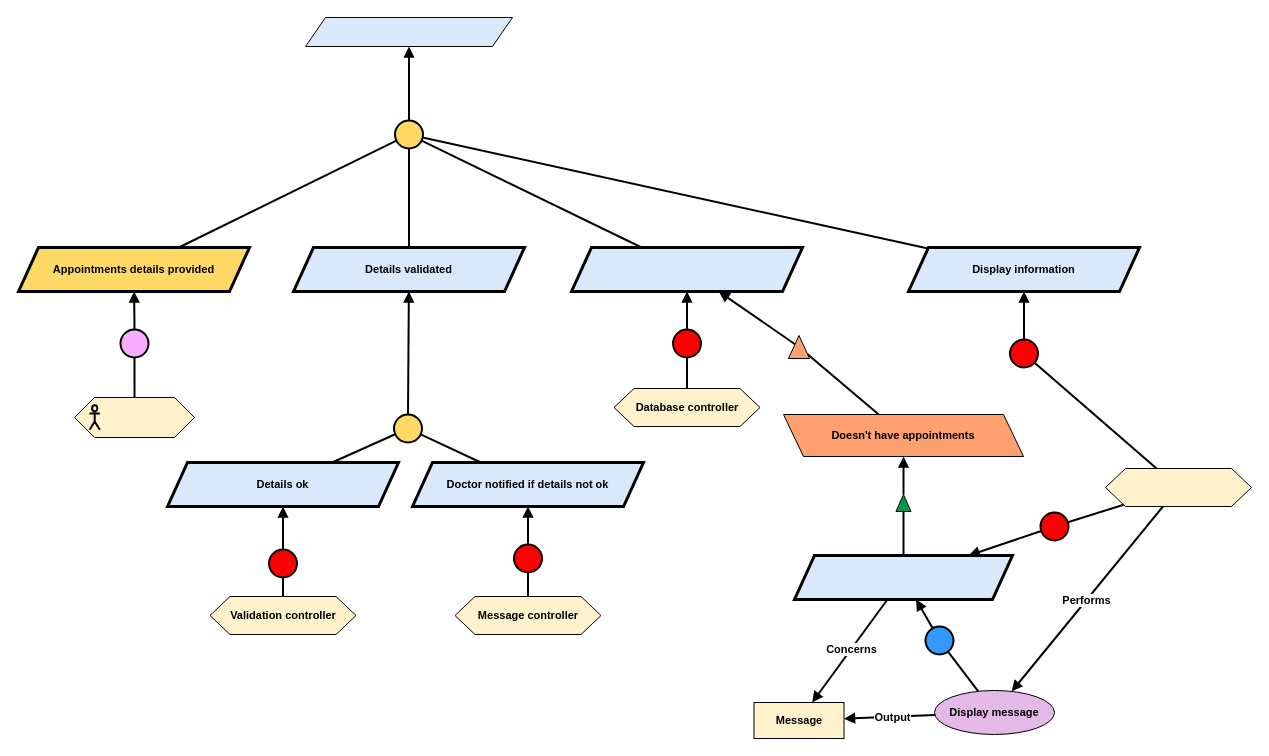
Image size: 1269x756. Some labels were removed from this diagram. The centre of each missing label's shape, as x and y in pixels:
"Display appropriate message" goes at (903,577).
"Interface controller" goes at (1178,487).
"Obtain appointments information" goes at (687,269).
"See list of appointments" goes at (408,31).
"User" goes at (134,417).
